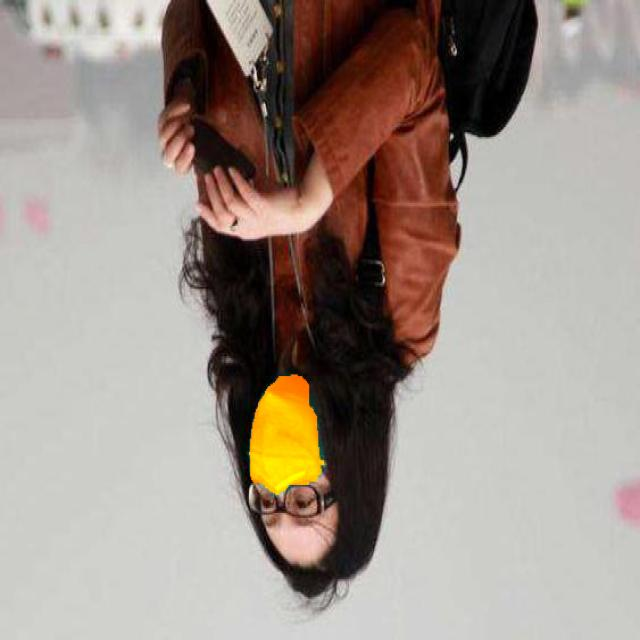mask: (246, 369, 328, 498)
